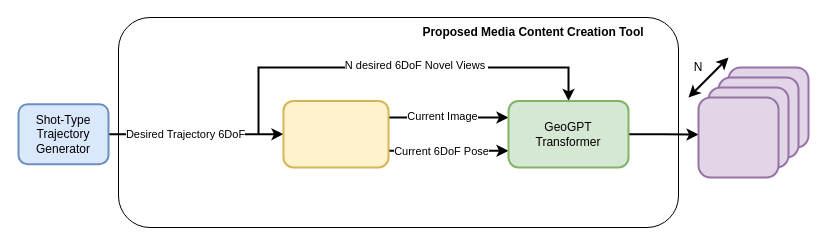
Some shapes in this 826 by 245 pixel diagram are drawn without their labels. The centre of each missing label's shape, as x and y in pixels:
"Cinematography Aerial Robot" belongs at (335,133).
"Novel View Images" belongs at (738,137).
